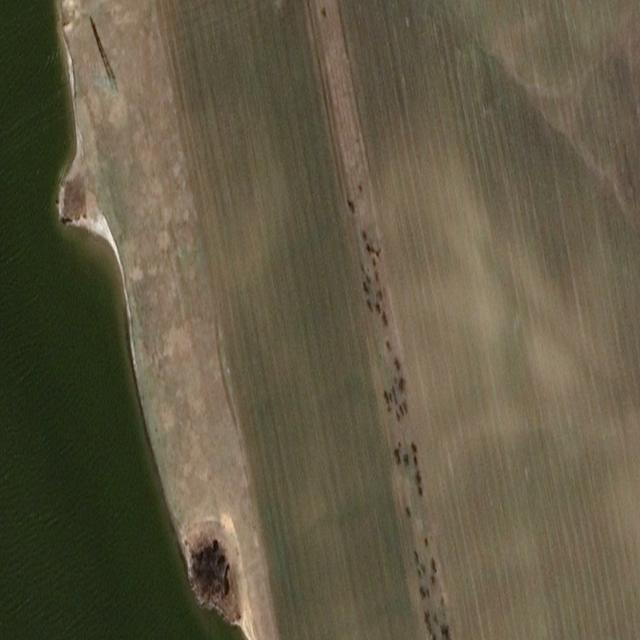bare-soil: (59, 0, 640, 639)
tree: (191, 537, 251, 626)
water: (0, 0, 242, 639)
